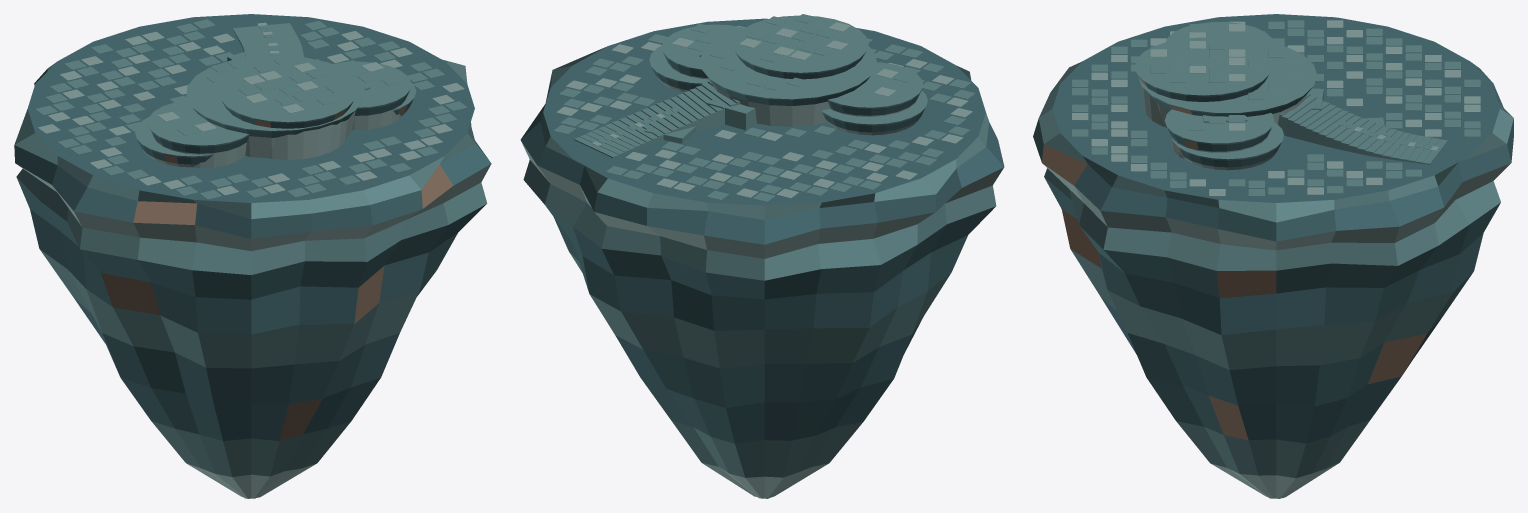
The model's file is world11-monastery-terrain-v2.glb.
3 views of the same model, side by side, from view 1: azimuth 30°, elevation 25°; view 2: azimuth 150°, elevation 25°; view 3: azimuth 270°, elevation 25° (orthographic).
Parts seen in each view (by area): view 1: W11_Main_Cliff_Geometry, W11_Raised_Supports_Geometry, W11_Walkable_Stone_Details_Geometry; view 2: W11_Main_Cliff_Geometry, W11_Raised_Supports_Geometry, W11_Walkable_Stone_Details_Geometry; view 3: W11_Main_Cliff_Geometry, W11_Raised_Supports_Geometry, W11_Walkable_Stone_Details_Geometry.
Boxes of the visible parts, bbox=[...] form: W11_Main_Cliff_Geometry: bbox=[14, 14, 491, 498]; W11_Raised_Supports_Geometry: bbox=[135, 23, 416, 167]; W11_Walkable_Stone_Details_Geometry: bbox=[35, 19, 466, 199]; W11_Main_Cliff_Geometry: bbox=[520, 18, 1004, 498]; W11_Raised_Supports_Geometry: bbox=[574, 15, 927, 157]; W11_Walkable_Stone_Details_Geometry: bbox=[553, 14, 975, 201]; W11_Main_Cliff_Geometry: bbox=[1033, 14, 1513, 498]; W11_Raised_Supports_Geometry: bbox=[1134, 22, 1447, 170]; W11_Walkable_Stone_Details_Geometry: bbox=[1072, 20, 1480, 196].
Size of the model in its own units: 60.6 by 58.96 by 59.34.
